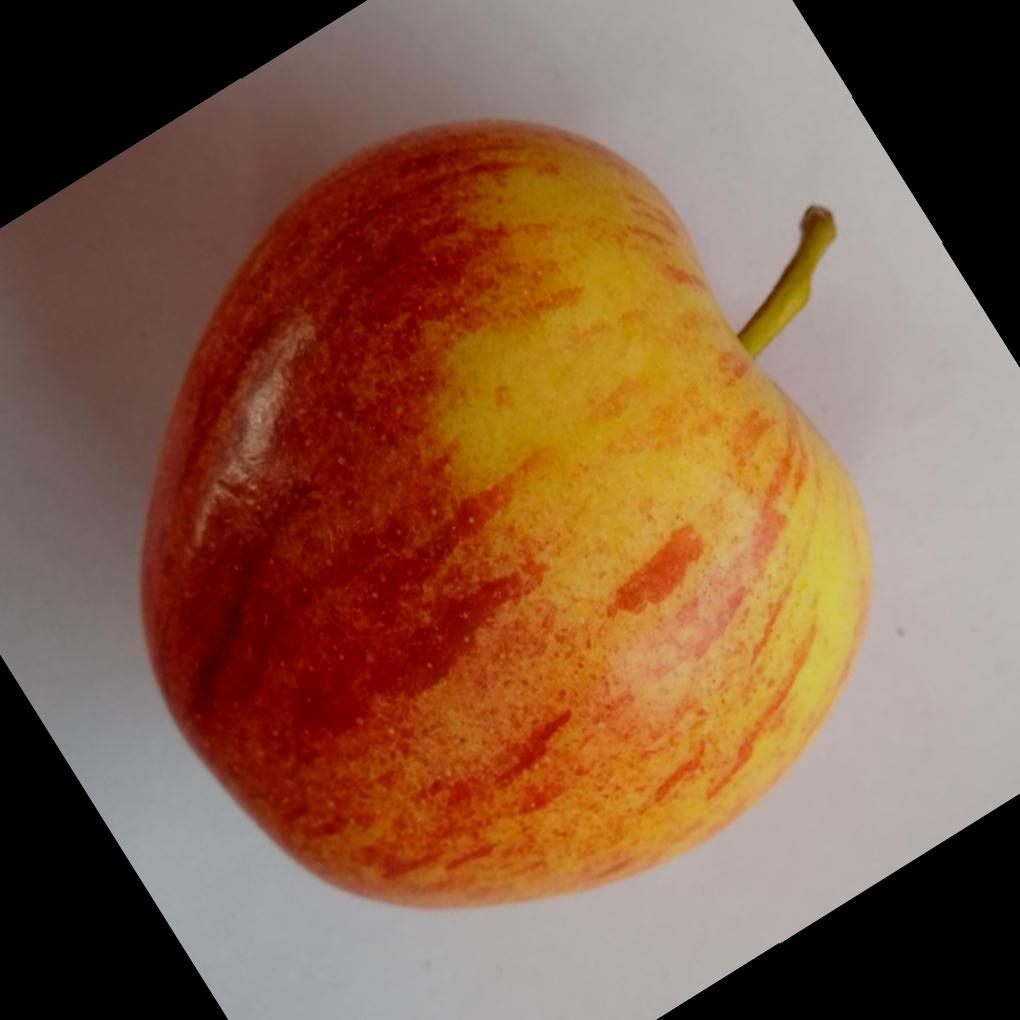FreshGuava: (134, 117, 870, 913)
